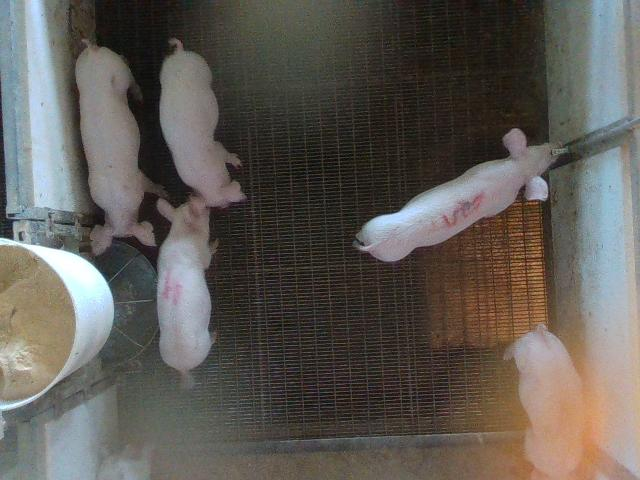pig-1: (506, 325, 582, 478)
pig-3: (354, 129, 565, 261)
pig-4: (158, 196, 214, 374)
